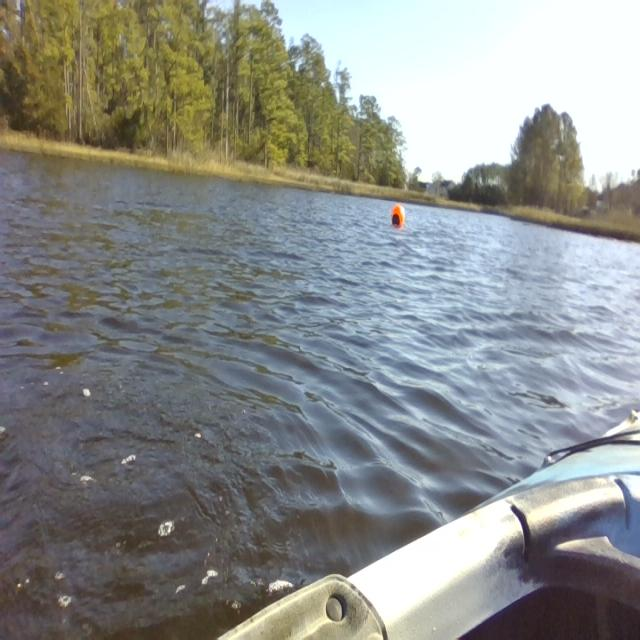Buoy: (385, 197, 410, 236)
